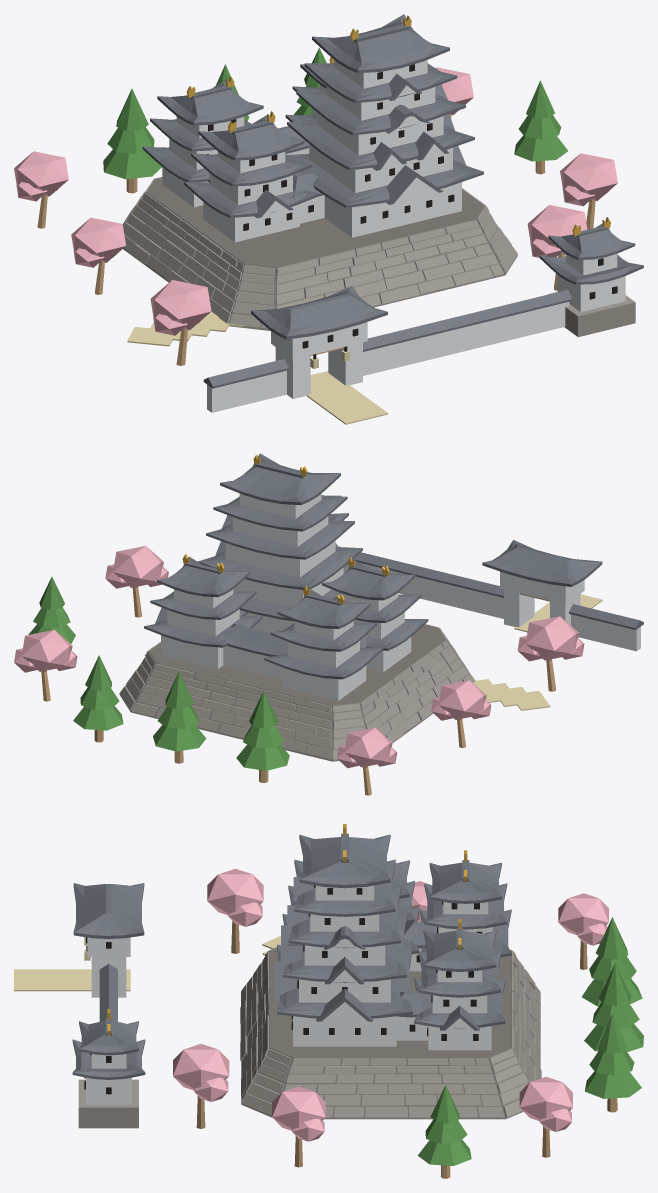
The model's file is himeji-castle.glb.
3 renders of one model, top to bottom at view 1: azimuth 30°, elevation 25°; view 2: azimuth 150°, elevation 25°; view 3: azimuth 270°, elevation 25°, orthographic. The views are drawn at different scales.
Visible parts, largest first — view 1: himeji_tile, himeji_snow, himeji_stone, himeji_blossom, himeji_darkstone, himeji_foliage, himeji_cream, himeji_roof, himeji_wood, himeji_gold; view 2: himeji_tile, himeji_snow, himeji_stone, himeji_blossom, himeji_foliage, himeji_darkstone, himeji_cream, himeji_wood, himeji_gold; view 3: himeji_tile, himeji_stone, himeji_snow, himeji_blossom, himeji_foliage, himeji_darkstone, himeji_cream, himeji_wood, himeji_roof.
Part boxes in pixels (x1,y1,x2,y2): himeji_tile: (142,14,643,388); himeji_snow: (162,60,625,412); himeji_stone: (122,177,635,337); himeji_blossom: (14,67,617,335); himeji_darkstone: (123,177,517,330); himeji_foliage: (103,47,567,179); himeji_cream: (127,311,388,424); himeji_roof: (206,64,617,359); himeji_wood: (37,114,595,365); himeji_gold: (186,15,610,236); himeji_tile: (144,453,643,679); himeji_snow: (161,493,640,700); himeji_stone: (119,546,474,759); himeji_blossom: (14,545,584,768); himeji_foliage: (28,576,289,770); himeji_darkstone: (120,624,468,761); himeji_cream: (471,594,602,710); himeji_wood: (41,586,555,795); himeji_gold: (182,454,389,604); himeji_tile: (72,833,511,1079); himeji_stone: (78,947,541,1128); himeji_snow: (86,885,492,1104); himeji_blossom: (173,868,608,1141); himeji_foliage: (417,917,643,1165); himeji_darkstone: (241,948,540,1119); himeji_cream: (14,935,280,991); himeji_wood: (196,921,617,1178); himeji_roof: (84,885,482,1094).
Bounding box in the file's own units: 20.98 × 9.15 × 21.9.
